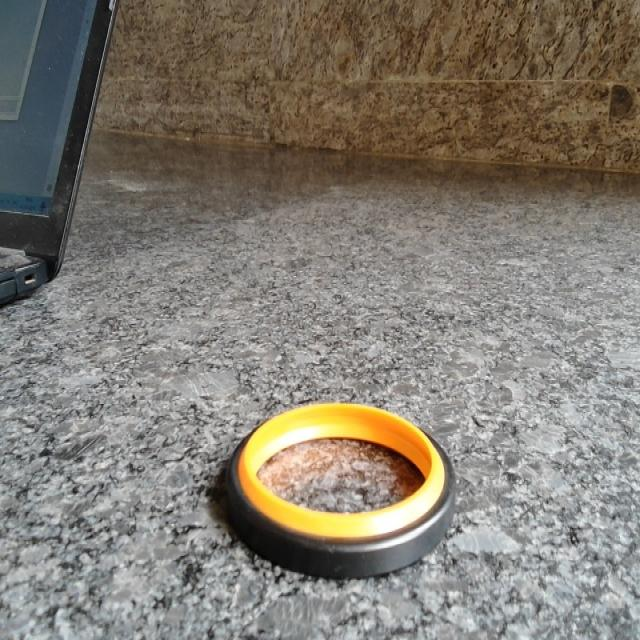orange-2-ring: (229, 403, 455, 577)
